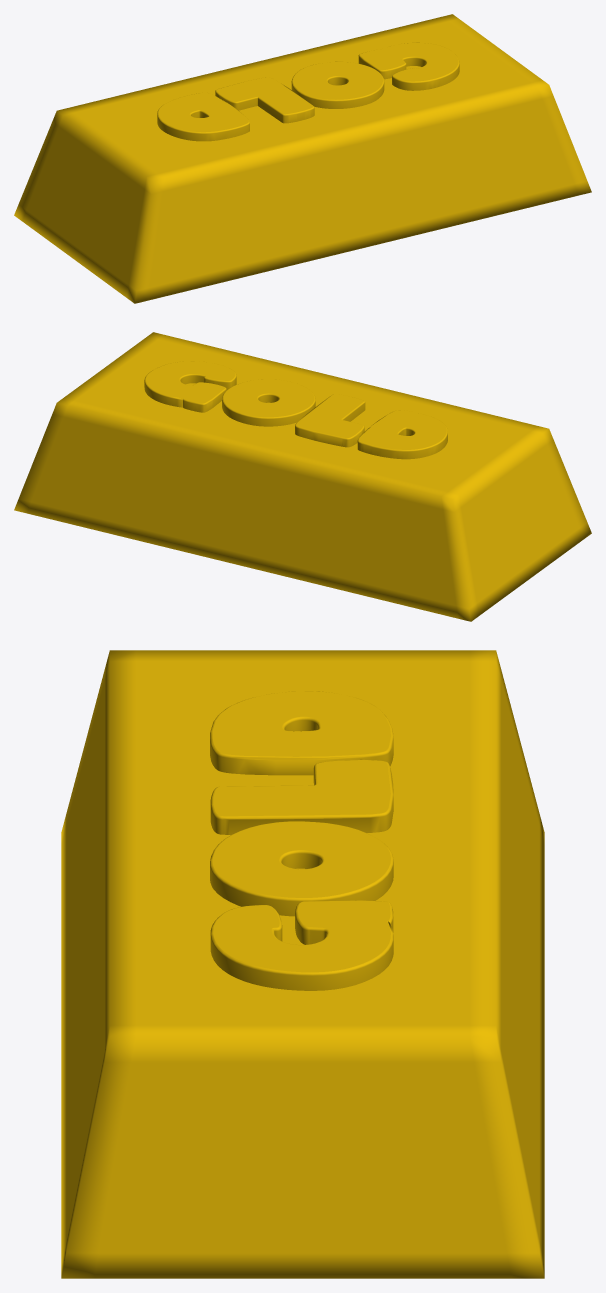
File: Gold_Bar.glb
3 renders of one model, top to bottom at view 1: azimuth 30°, elevation 25°; view 2: azimuth 150°, elevation 25°; view 3: azimuth 270°, elevation 25°, orthographic. The views are drawn at different scales.
Parts seen in each view (by area): view 1: Gold_Bar; view 2: Gold_Bar; view 3: Gold_Bar.
Boxes of the visible parts, x1,y1,x2,y2 form: Gold_Bar: [14, 14, 591, 303]; Gold_Bar: [14, 332, 591, 621]; Gold_Bar: [61, 650, 544, 1278].
Size of the model in its own units: 1.43 by 0.3431 by 0.6541.
